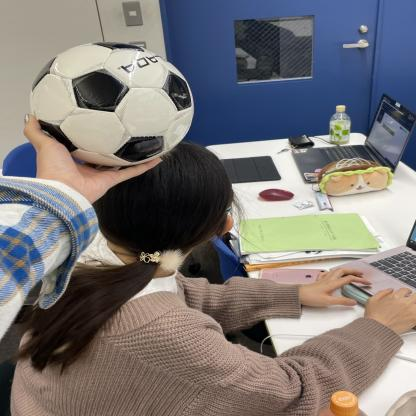ball: (33, 42, 194, 166)
